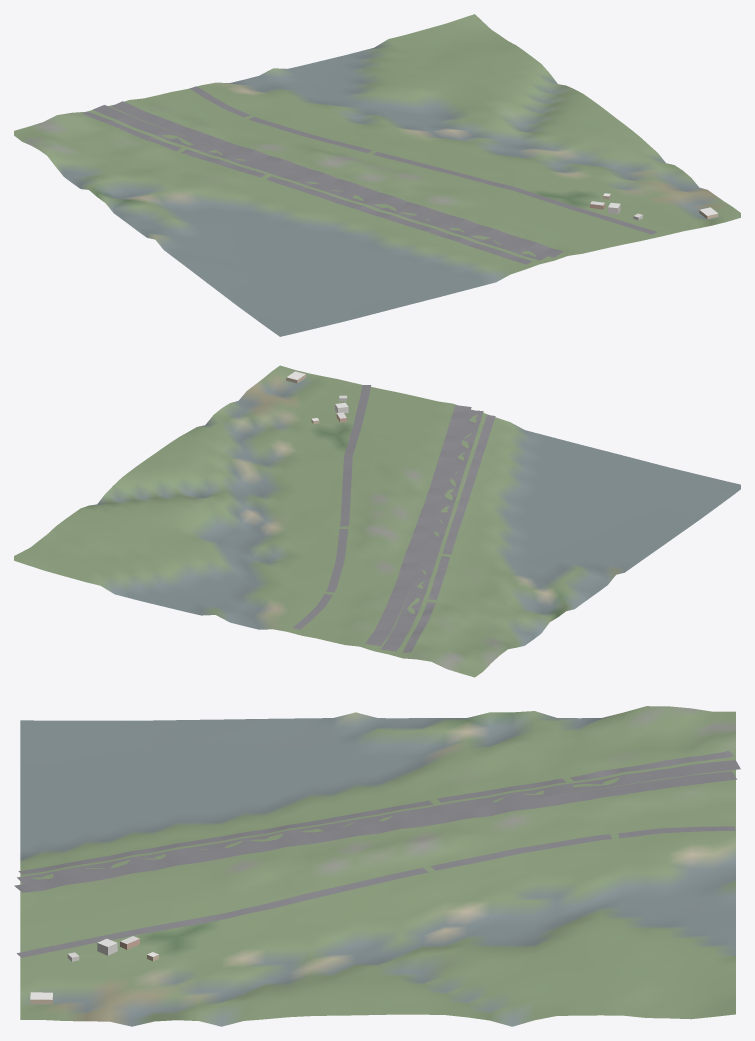
3 views of the same model, one above another, from view 1: azimuth 30°, elevation 25°; view 2: azimuth 150°, elevation 25°; view 3: azimuth 270°, elevation 25° (orthographic). The views are drawn at different scales.
Visible parts, largest first — view 1: prim0, prim2; view 2: prim0, prim2; view 3: prim0, prim2, prim1.
Boxes of the visible parts, box(x1,y1,x2,y2) form: prim0: box(14, 14, 740, 336); prim2: box(82, 86, 657, 264); prim0: box(14, 365, 740, 677); prim2: box(292, 385, 495, 652); prim0: box(20, 706, 735, 1026); prim2: box(14, 750, 740, 957); prim1: box(30, 936, 158, 1004).
Bounding box in the file's own units: 512 × 19.67 × 520.
